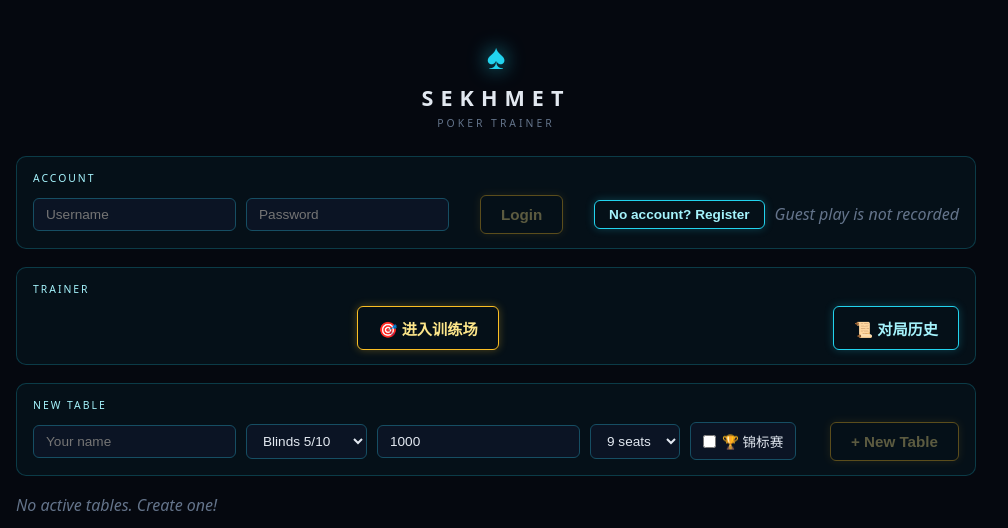
Scenario: register flow works and can be toggled from the login form
Click the button "No account? Register". click: coordinates (679, 214)
box: [594,200,765,229]
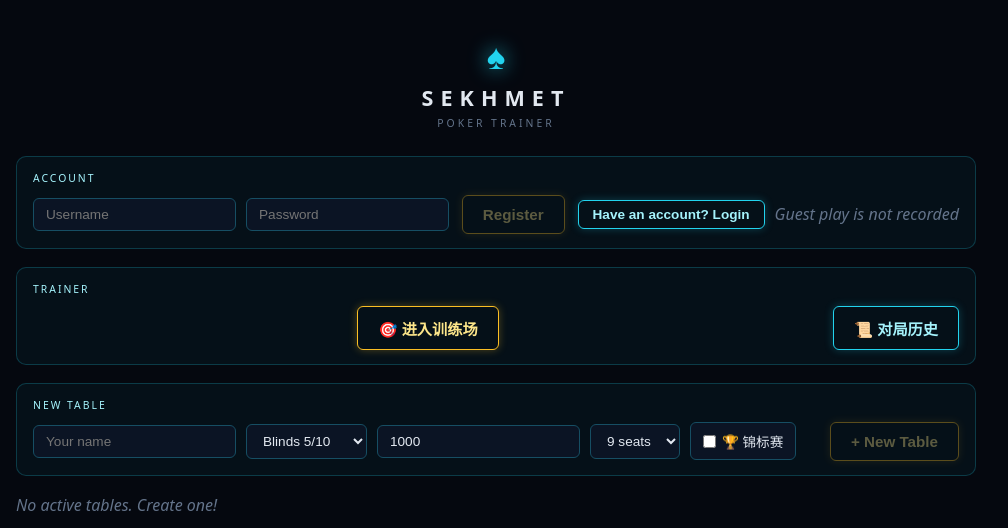
Type "bob" into the field with placeholder "Username". click: coordinates (134, 214)
box: [33,198,236,231]
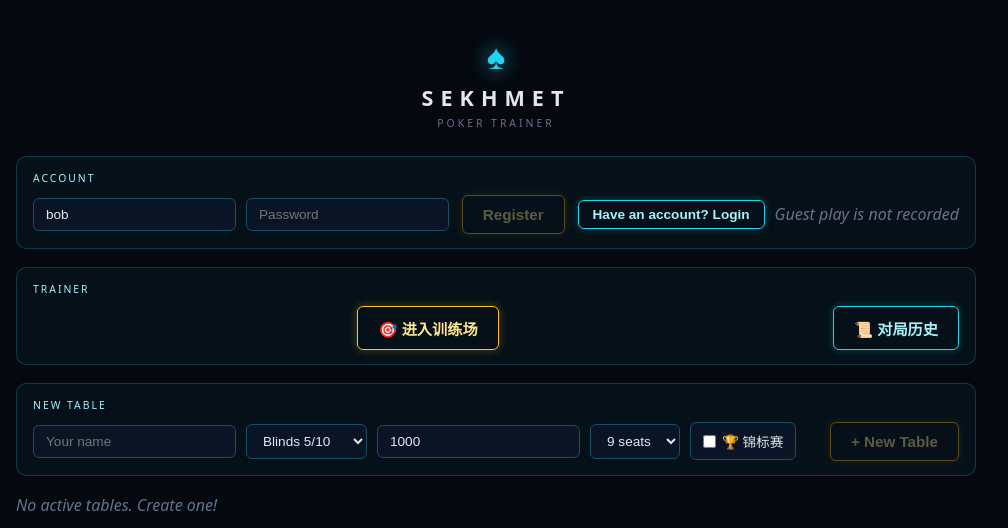
Type "secret123" into the password field with placeholder "Password". click: coordinates (348, 214)
box: [246,198,449,231]
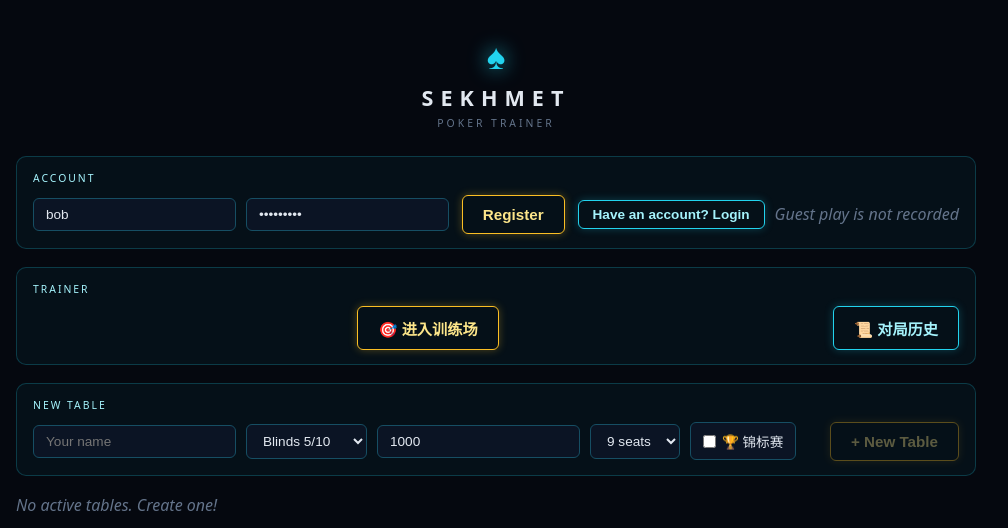
Click the button "Register". click: coordinates (513, 214)
box: [462,195,565,234]
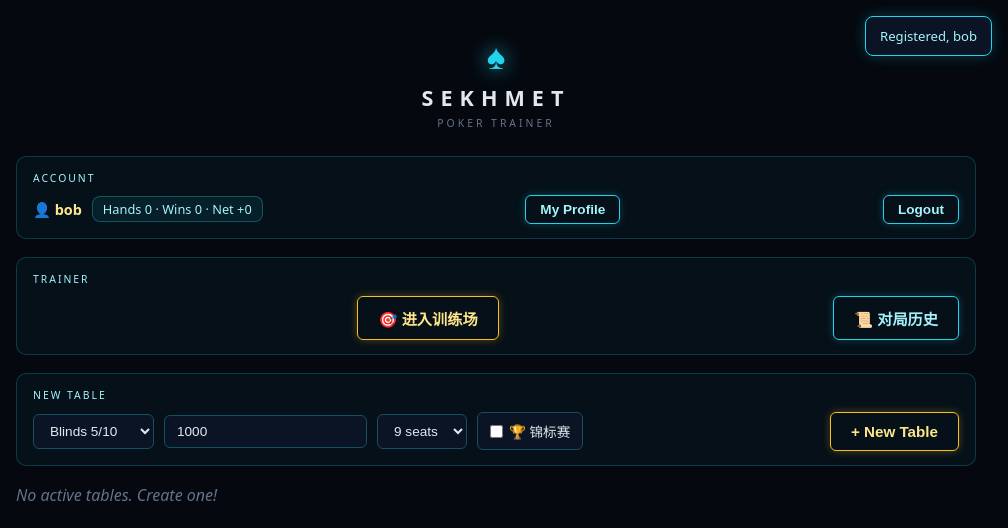
Expected: the text "👤 bob" is shown, [33,200,82,219]
